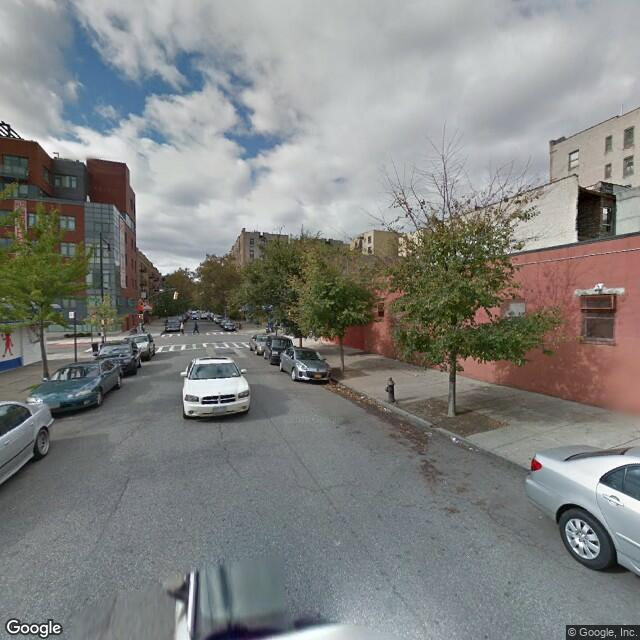litter: (452, 436, 459, 443), (385, 406, 391, 413), (359, 394, 366, 400), (468, 446, 476, 450)
